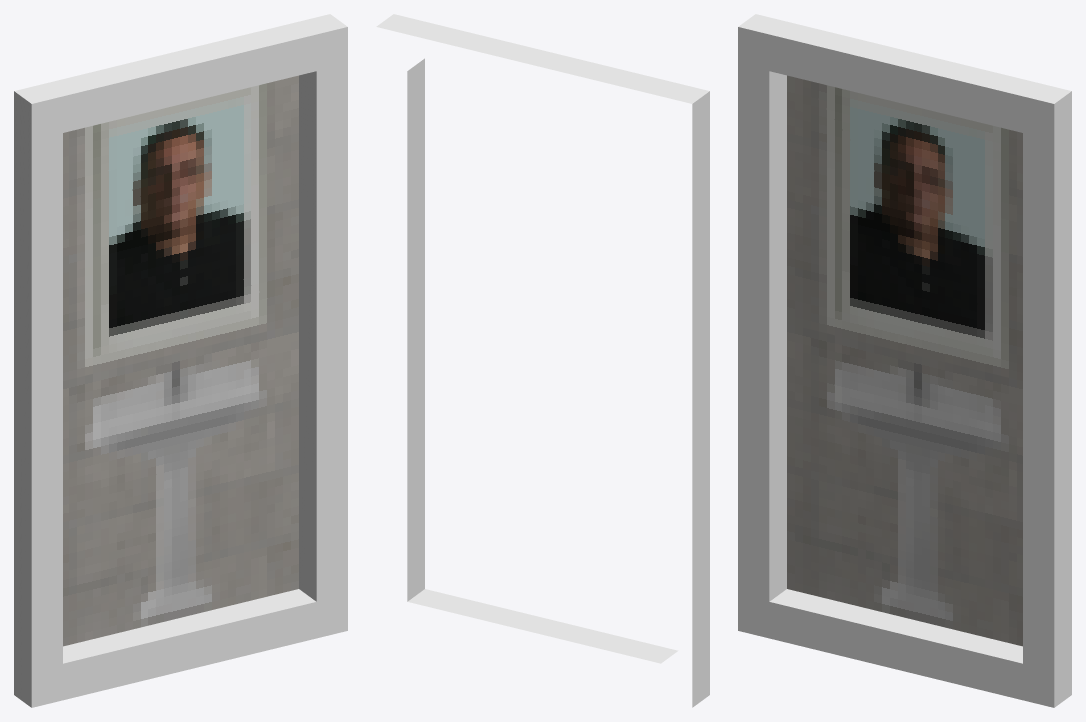
File: Room18Sink1.glb
The picture shows the model from 3 angles, left to right: view 1: azimuth 30°, elevation 25°; view 2: azimuth 150°, elevation 25°; view 3: azimuth 330°, elevation 25°; orthographic projection.
Visible parts, largest first — view 1: Frame.006, CanvasBottom, CanvasTop; view 2: Frame.006; view 3: Frame.006, CanvasBottom, CanvasTop.
Part boxes in pixels (x1,y1,x2,y2): Frame.006: (14, 14, 347, 707); CanvasBottom: (63, 323, 298, 646); CanvasTop: (63, 75, 298, 380); Frame.006: (376, 14, 709, 707); Frame.006: (738, 14, 1071, 707); CanvasBottom: (787, 323, 1022, 646); CanvasTop: (787, 75, 1022, 380).
Bounding box in the file's own units: 1.25 × 2.28 × 0.1203.
3 materials, 2 textured.
